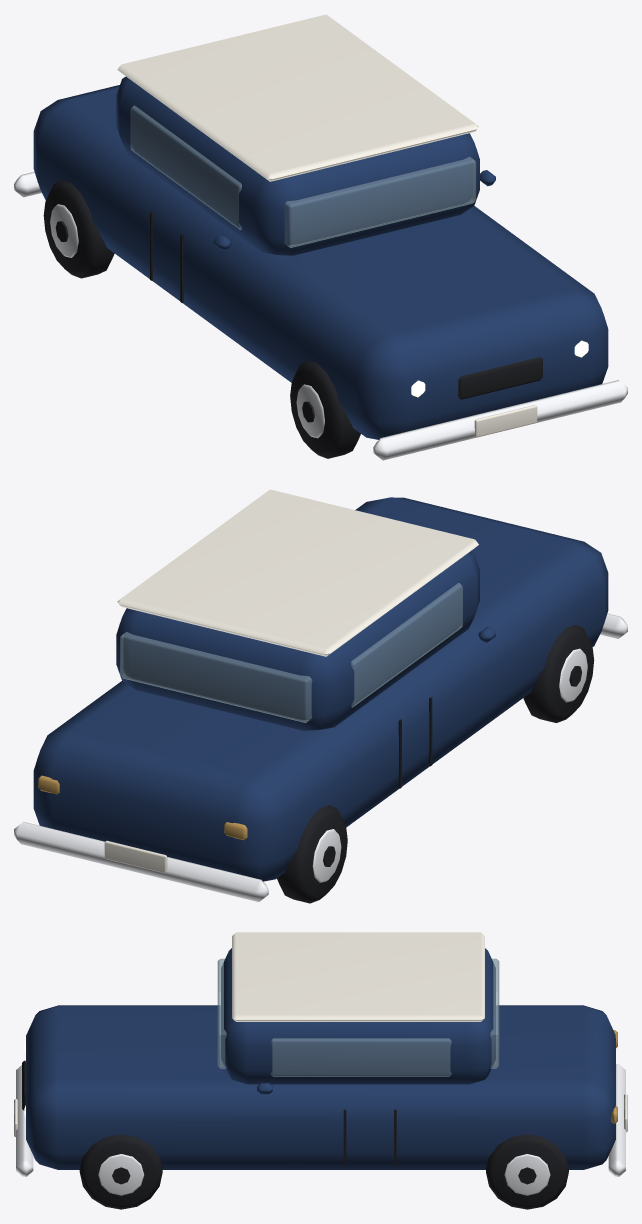
Rendered from car_sedan.glb.
3 views of the same model, one above another, from view 1: azimuth 30°, elevation 25°; view 2: azimuth 150°, elevation 25°; view 3: azimuth 270°, elevation 25° (orthographic). The views are drawn at different scales.
Visible parts, largest first — view 1: car_sedan; view 2: car_sedan; view 3: car_sedan.
Part boxes in pixels (bbox=[...]): car_sedan: bbox=[14, 14, 627, 460]; car_sedan: bbox=[14, 489, 627, 903]; car_sedan: bbox=[14, 932, 627, 1209].
Size of the model in its own units: 1.97 by 1.53 by 4.58.
